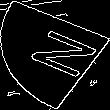N_SE: (12, 25, 98, 85)
